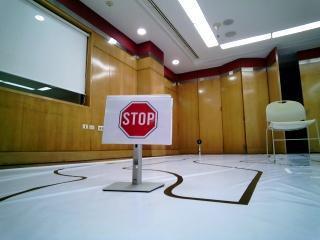stop: (112, 97, 168, 140)
